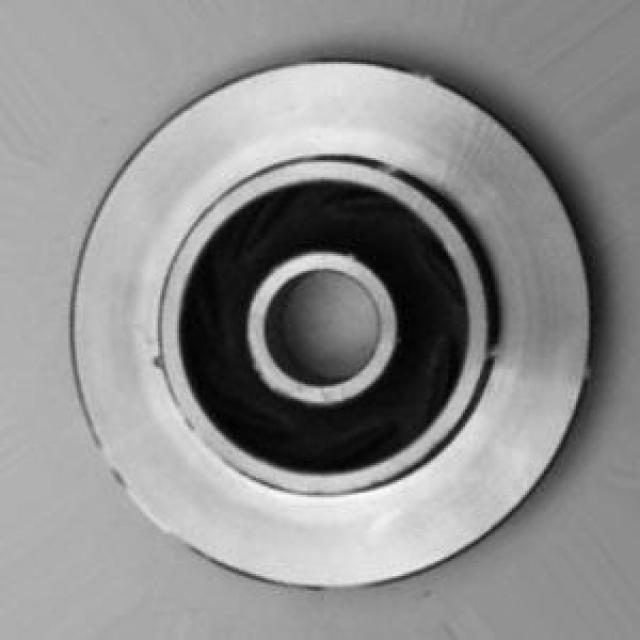Defect: (144, 346, 167, 374)
